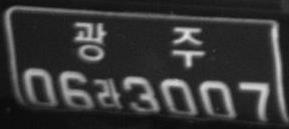0: (20, 65, 58, 109), (200, 78, 236, 121), (162, 77, 199, 117)
3: (122, 74, 162, 114)
6: (58, 69, 94, 111)
7: (237, 79, 271, 123)
광주_D: (73, 19, 207, 69)
라: (94, 76, 121, 111)
